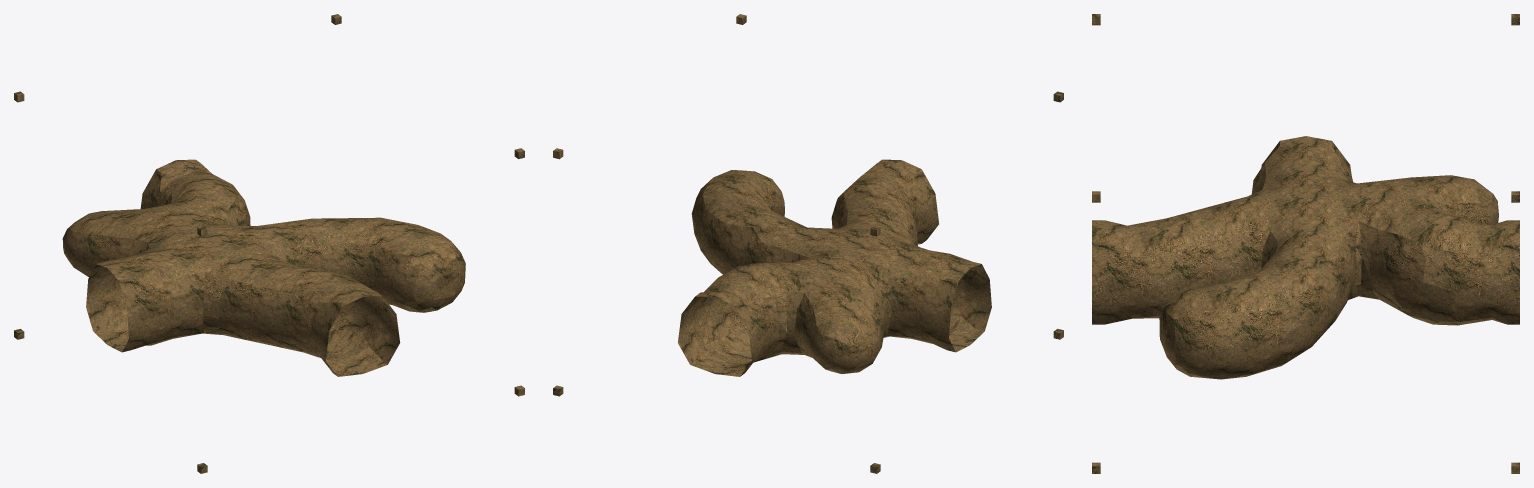
The model's file is lba_3e.glb.
3 views of the same model, side by side, from view 1: azimuth 30°, elevation 25°; view 2: azimuth 150°, elevation 25°; view 3: azimuth 270°, elevation 25° (orthographic). The views are drawn at different scales.
Visible parts, largest first — view 1: lba_3e-col; view 2: lba_3e-col; view 3: lba_3e-col.
Boxes of the visible parts, x1,y1,x2,y2 form: lba_3e-col: (14,14,524,473); lba_3e-col: (553,14,1063,473); lba_3e-col: (1092,14,1519,473).
Bounding box in the file's own units: 15 × 10.8 × 15.
1 material, 1 textured.
